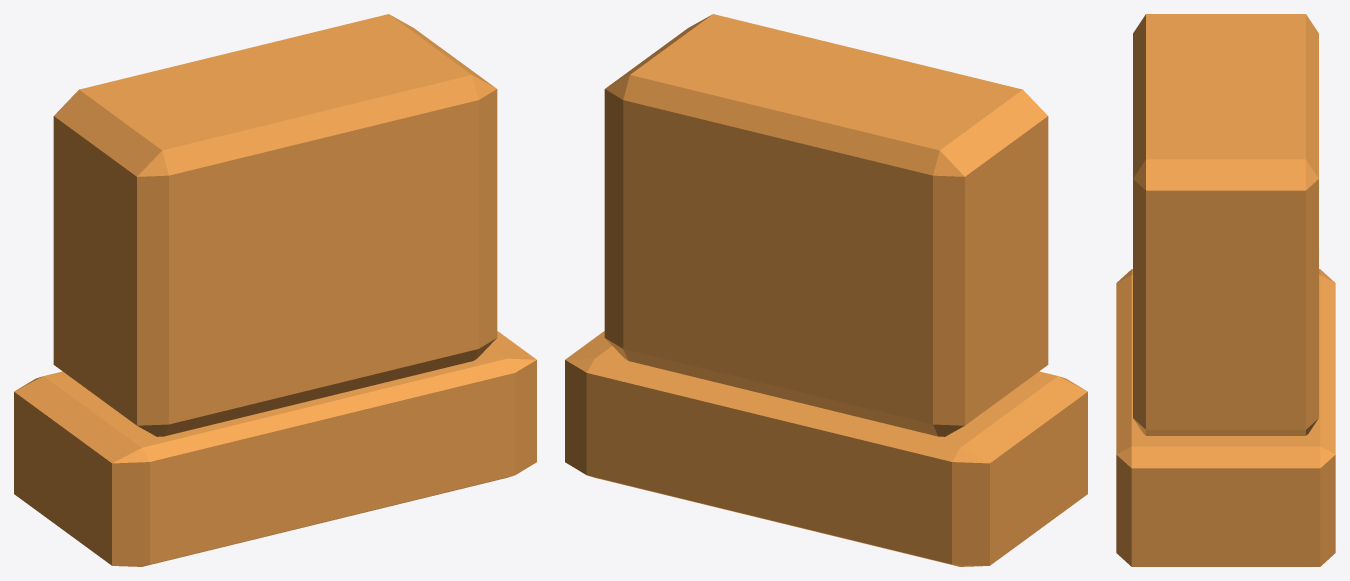
File: b02_striped_sawhorse_barricade.glb
3 views of the same model, side by side, from view 1: azimuth 30°, elevation 25°; view 2: azimuth 150°, elevation 25°; view 3: azimuth 270°, elevation 25° (orthographic). The views are drawn at different scales.
Parts seen in each view (by area): view 1: b02_striped_sawhorse_barricade; view 2: b02_striped_sawhorse_barricade; view 3: b02_striped_sawhorse_barricade.
Part boxes in pixels (x1=…): b02_striped_sawhorse_barricade: x1=14, y1=14, x2=536, y2=566; b02_striped_sawhorse_barricade: x1=565, y1=14, x2=1087, y2=566; b02_striped_sawhorse_barricade: x1=1116, y1=14, x2=1335, y2=566.
Bounding box in the file's own units: 1.4 × 1.27 × 0.651.
